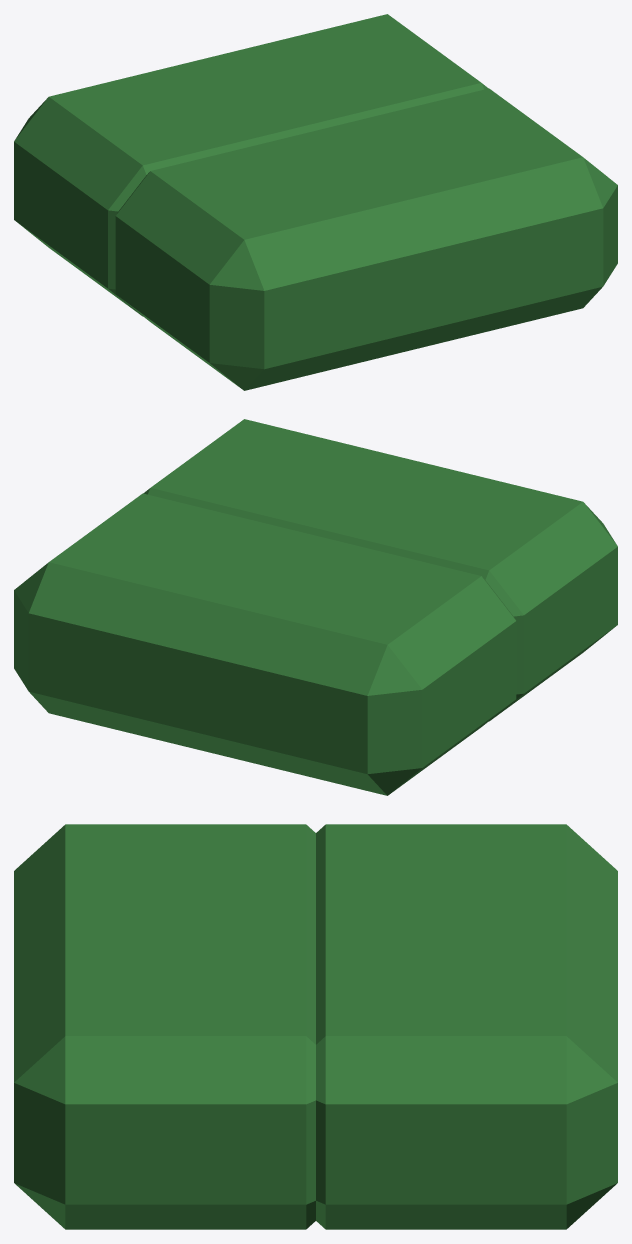
Rendered from m_kub_dung_floor_twoBrick.fbx.
3 views of the same model, one above another, from view 1: azimuth 30°, elevation 25°; view 2: azimuth 150°, elevation 25°; view 3: azimuth 270°, elevation 25° (orthographic). The views are drawn at different scales.
Parts seen in each view (by area): view 1: m_kub_dung_floor_twoBrick; view 2: m_kub_dung_floor_twoBrick; view 3: m_kub_dung_floor_twoBrick.
Part boxes in pixels (bbox=[...]): m_kub_dung_floor_twoBrick: bbox=[14, 14, 617, 390]; m_kub_dung_floor_twoBrick: bbox=[14, 419, 617, 795]; m_kub_dung_floor_twoBrick: bbox=[14, 824, 617, 1229].
Size of the model in its own units: 2.32 by 0.8205 by 2.32.
